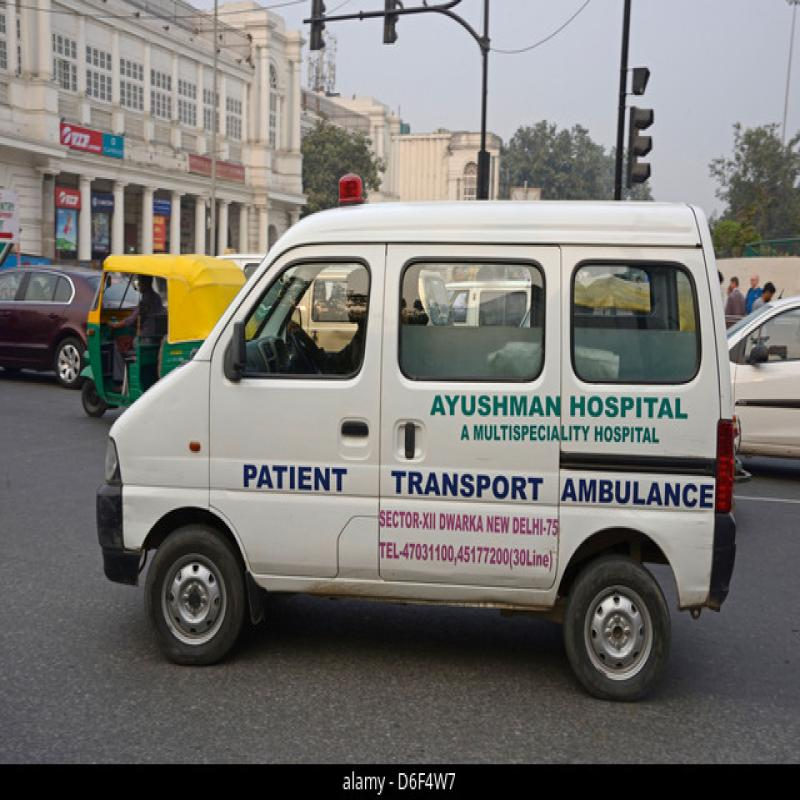ambulance: (97, 166, 762, 696)
